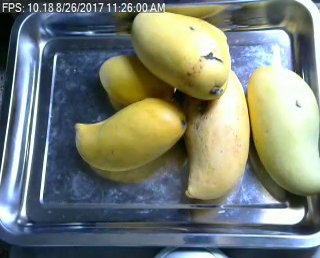Mango: (249, 66, 320, 197), (181, 65, 250, 198), (132, 8, 230, 99), (75, 98, 185, 171), (98, 53, 175, 104)
